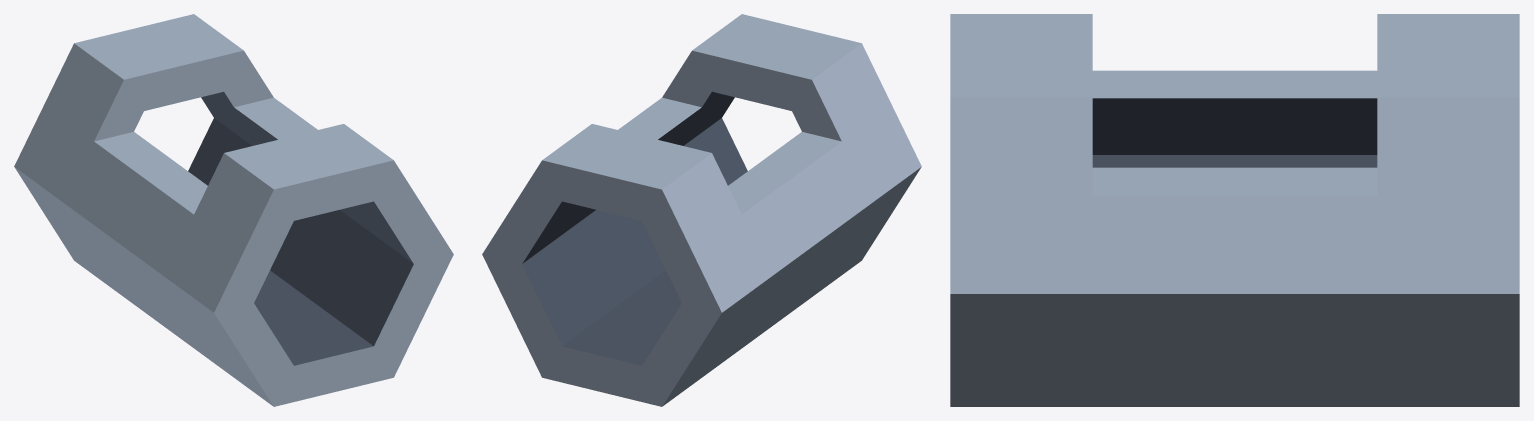
Rendered from pipe_open.glb.
3 views of the same model, side by side, from view 1: azimuth 30°, elevation 25°; view 2: azimuth 150°, elevation 25°; view 3: azimuth 270°, elevation 25° (orthographic). The views are drawn at different scales.
Parts seen in each view (by area): view 1: pipe_open; view 2: pipe_open; view 3: pipe_open.
Part boxes in pixels (x1,y1,x2,y2): pipe_open: (14,14,453,406); pipe_open: (482,14,921,406); pipe_open: (950,14,1519,406).
Bounding box in the file's own units: 0.6928 × 0.6 × 1.
